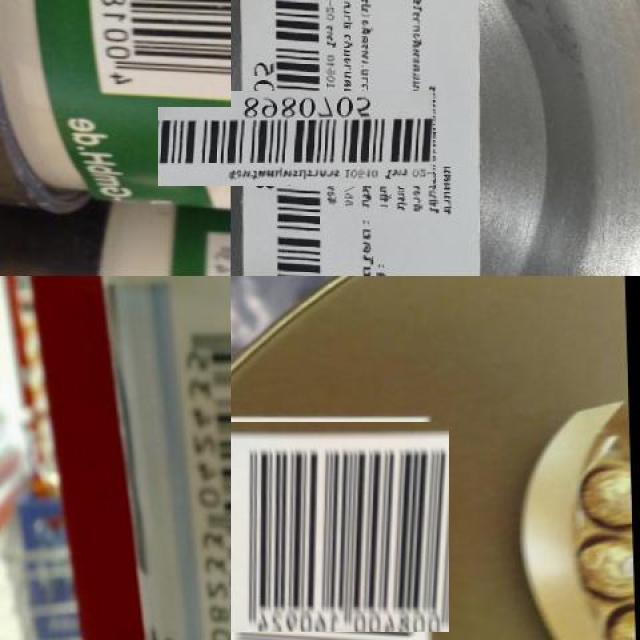Barcode: (228, 418, 446, 636), (203, 45, 388, 231), (178, 321, 230, 640), (86, 0, 230, 107)
